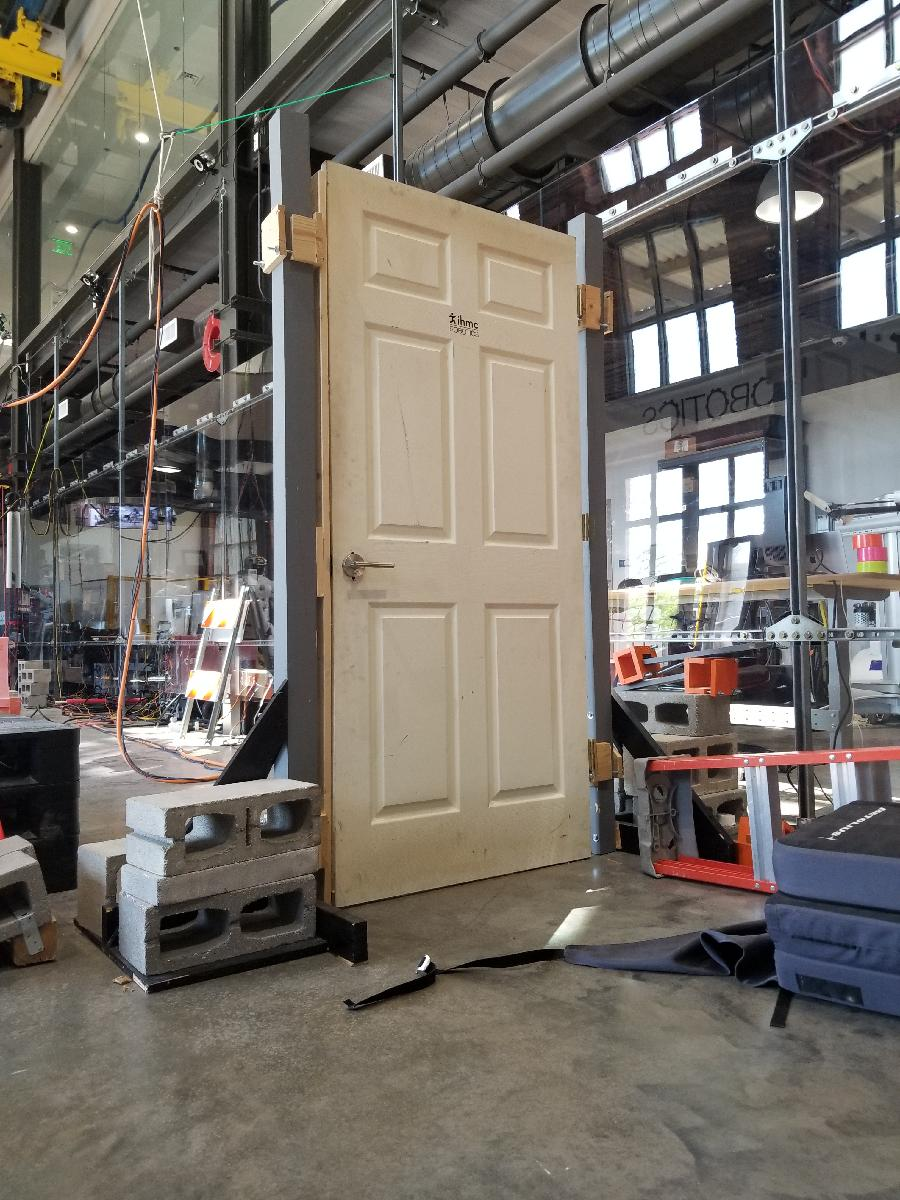door: (315, 156, 599, 917)
doorHandle: (324, 548, 397, 580)
